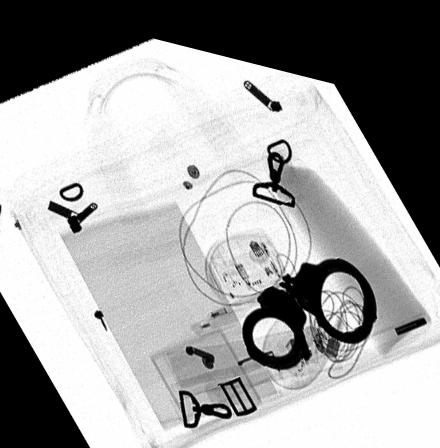HandCuffs: (241, 239, 379, 356)
